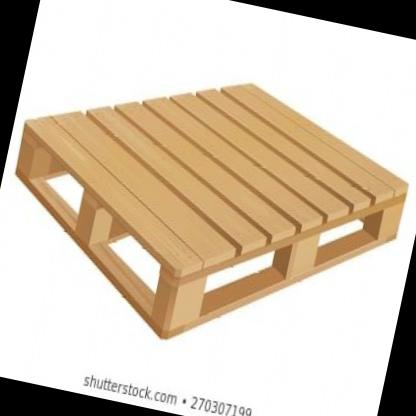BoxFace: (14, 78, 408, 344)
